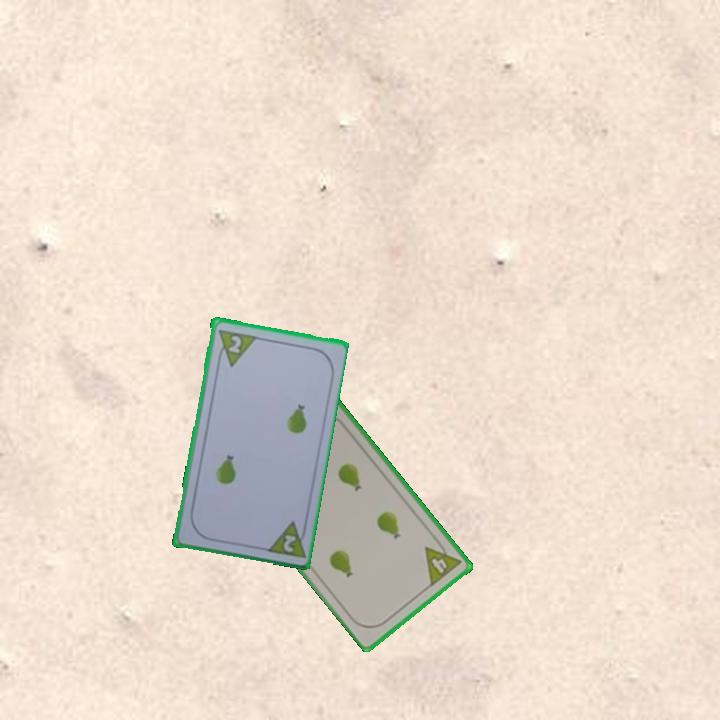2p: (262, 517, 310, 560), (213, 325, 258, 369)
4p: (421, 535, 464, 589)
